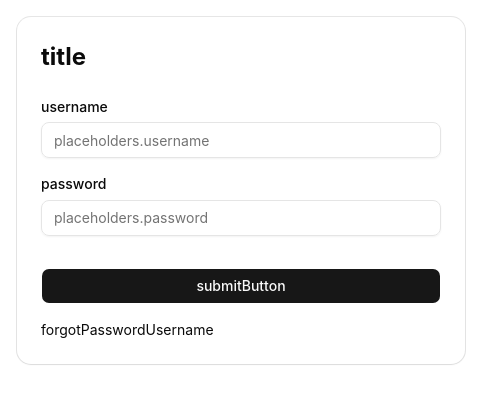
Scenario: LoginPage › displays validation error for empty password
Step 1. Type "testuser" into the field labelled "username" → (241, 140), box [41,122,441,158]
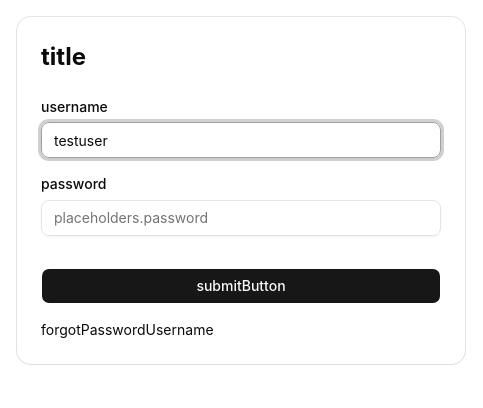
Step 2. Click the button → (241, 286), box [41,268,441,304]
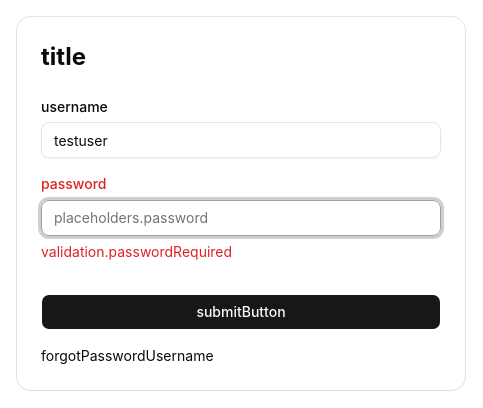
Now the text "validation.passwordRequired" is shown, box [41,242,232,260]
